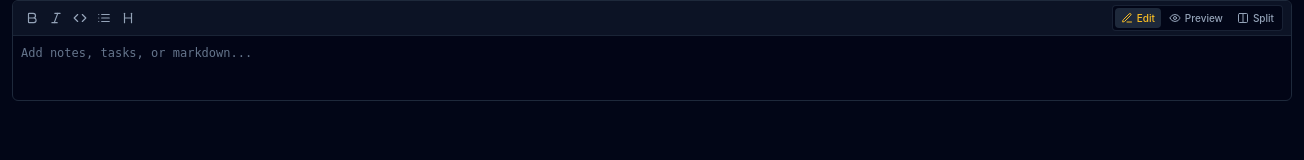
Test: MarkdownEditor Component › 2. Markdown Toolbar Formatting Buttons › applies Inline Code formatting (`code`) on button click
This screenshot has width=1304, height=160.
Click the button with test id "md-btn-code": (80, 18) x1=69 y1=7 x2=91 y2=29
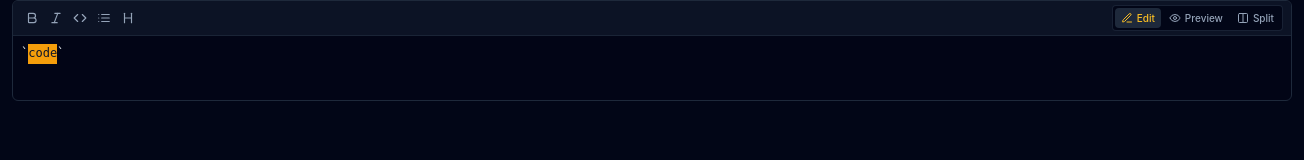
Now the text box with test id "markdown-textarea" holds "`code`", box x1=13 y1=36 x2=1291 y2=100
